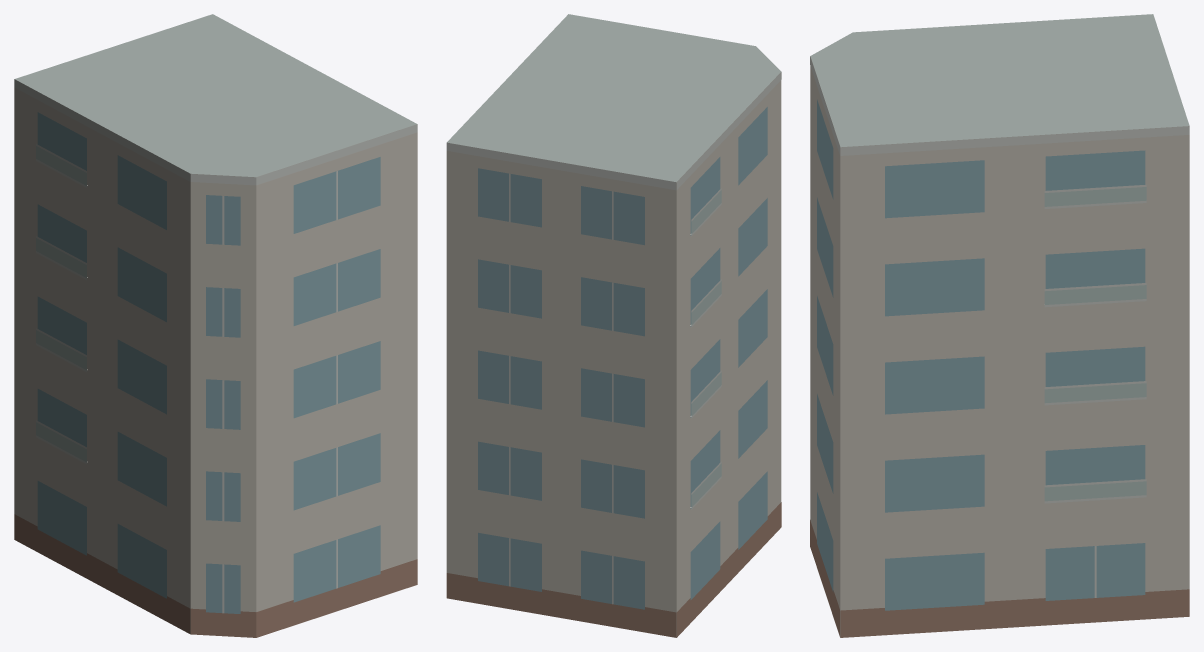
File: survey-upis-32871511.glb
The picture shows the model from 3 angles, left to right: view 1: azimuth 30°, elevation 25°; view 2: azimuth 150°, elevation 25°; view 3: azimuth 270°, elevation 25°; orthographic projection. The views are drawn at different scales.
Visible parts, largest first — view 1: survey-upis-32871511.tmp; view 2: survey-upis-32871511.tmp; view 3: survey-upis-32871511.tmp.
Part boxes in pixels (box(x1,y1,x2,y2)): survey-upis-32871511.tmp: box(14, 14, 417, 637); survey-upis-32871511.tmp: box(446, 14, 781, 637); survey-upis-32871511.tmp: box(810, 14, 1189, 637).
Bounding box in the file's own units: 7.93 × 13.6 × 9.54.
